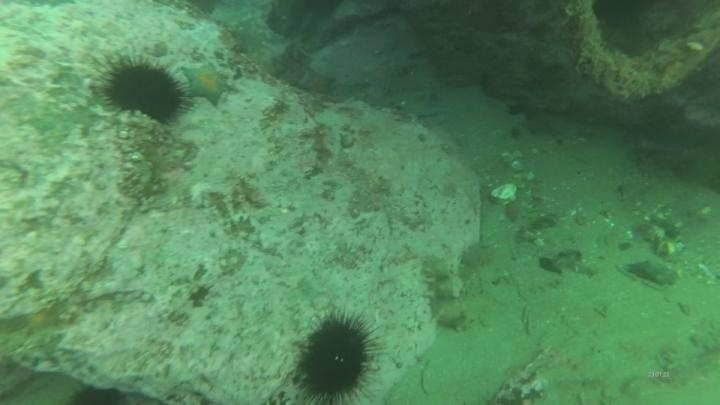echinus: (291, 309, 381, 403), (98, 54, 191, 125), (587, 1, 655, 33)
holothurian: (419, 254, 473, 333)
starfish: (179, 60, 235, 108), (296, 67, 338, 97)
